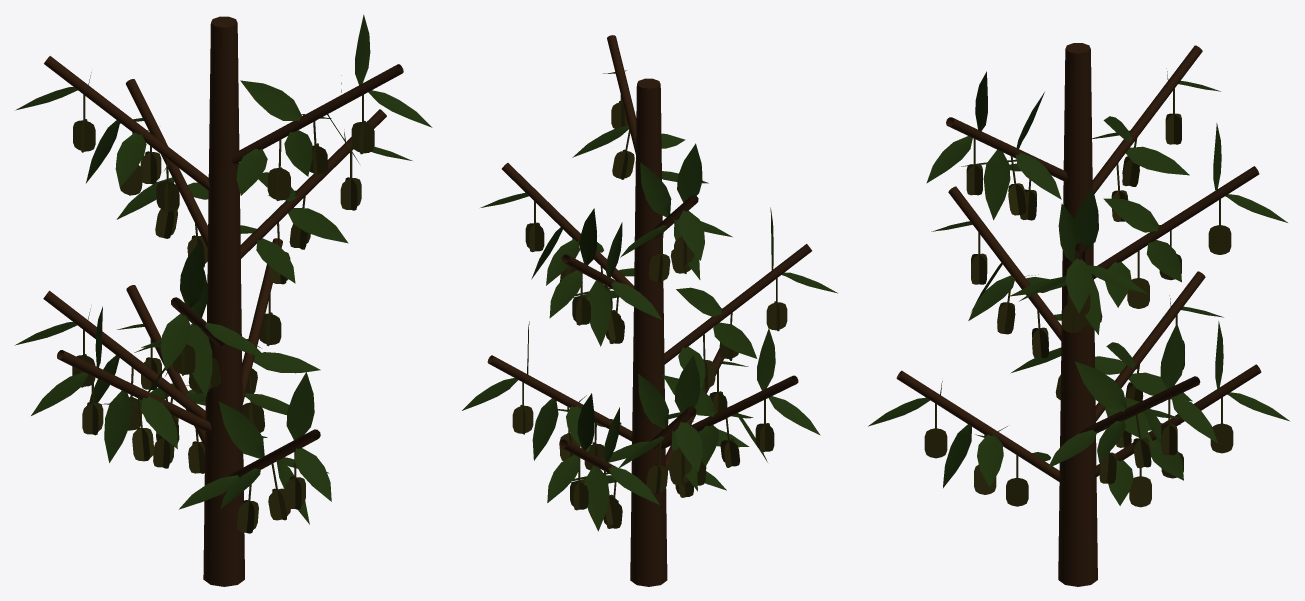
The model's file is AvocadoTree 1.fbx.
3 views of the same model, side by side, from view 1: azimuth 30°, elevation 25°; view 2: azimuth 150°, elevation 25°; view 3: azimuth 270°, elevation 25° (orthographic). The views are drawn at different scales.
Parts seen in each view (by area): view 1: AvocadoTree; view 2: AvocadoTree; view 3: AvocadoTree.
Boxes of the visible parts, x1,y1,x2,y2 form: AvocadoTree: (15, 14, 432, 586); AvocadoTree: (462, 35, 837, 586); AvocadoTree: (868, 43, 1289, 586).
Bounding box in the file's own units: 32.93 × 47.37 × 33.05.
